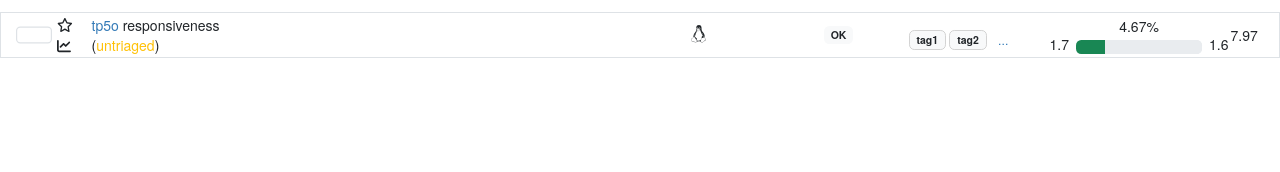
Button '...' displays all the tags for an alert item
Check: the number of elements with test id "alert-tag" is 2, box [909,30,946,50]; [949,30,987,50]
Check: the text with test id "show-more-tags-options" reads "...", box [998,31,1008,48]
Click the button with test id "show-more-tags-options" at [1003, 40], box [990,27,1016,54]
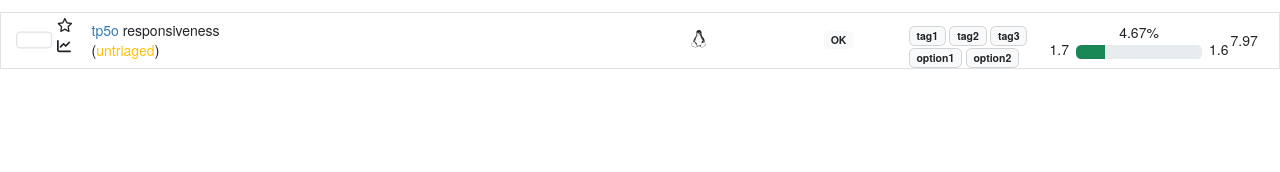
Check: the number of elements with test id "alert-tag" is 3, box [909,26,946,46]; [949,26,987,46]; [990,26,1027,46]
